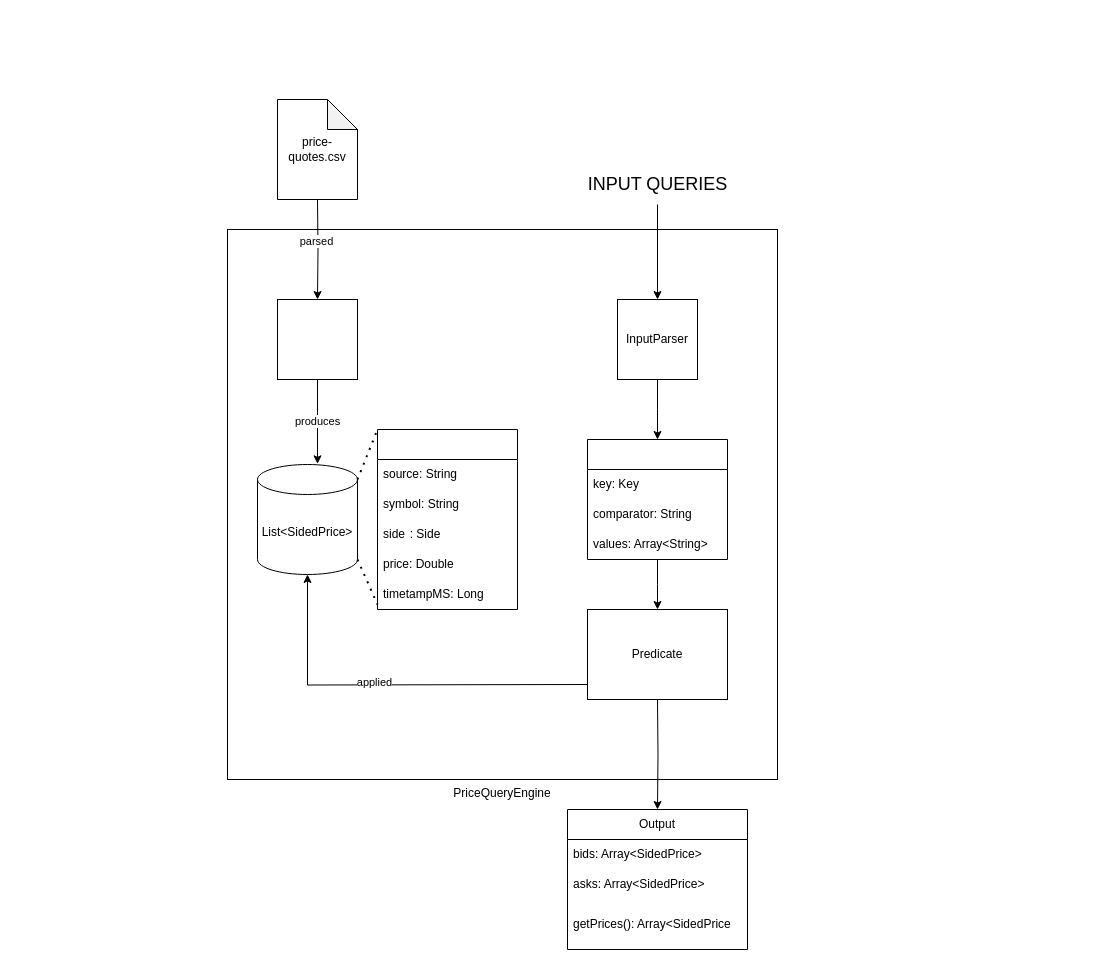
This 1114x967 diagram has some shape labels left out. Each missing label, with the box of its shape:
FileParser: (276, 298, 358, 380)
RawQuery: (586, 438, 728, 560)
SidedPrice: (376, 428, 518, 610)
